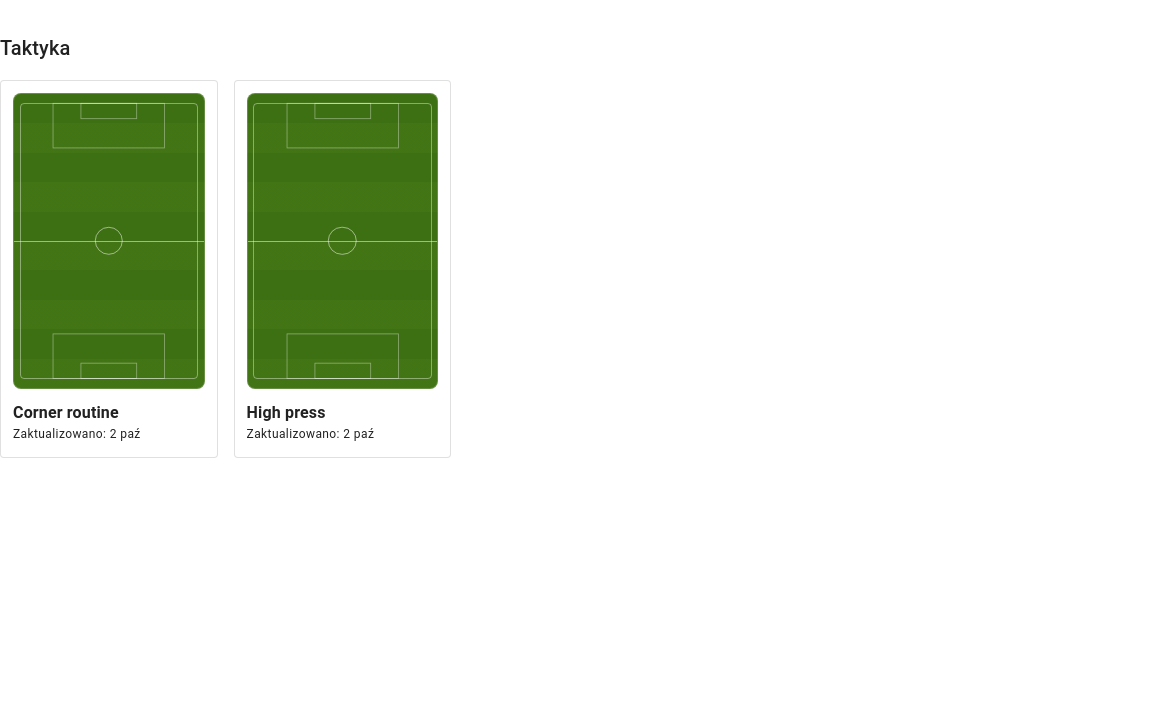
Test: opening a board › opens a read-only view for users who cannot edit
Click the text "High press" at (286, 412), box x1=247 y1=403 x2=326 y2=422
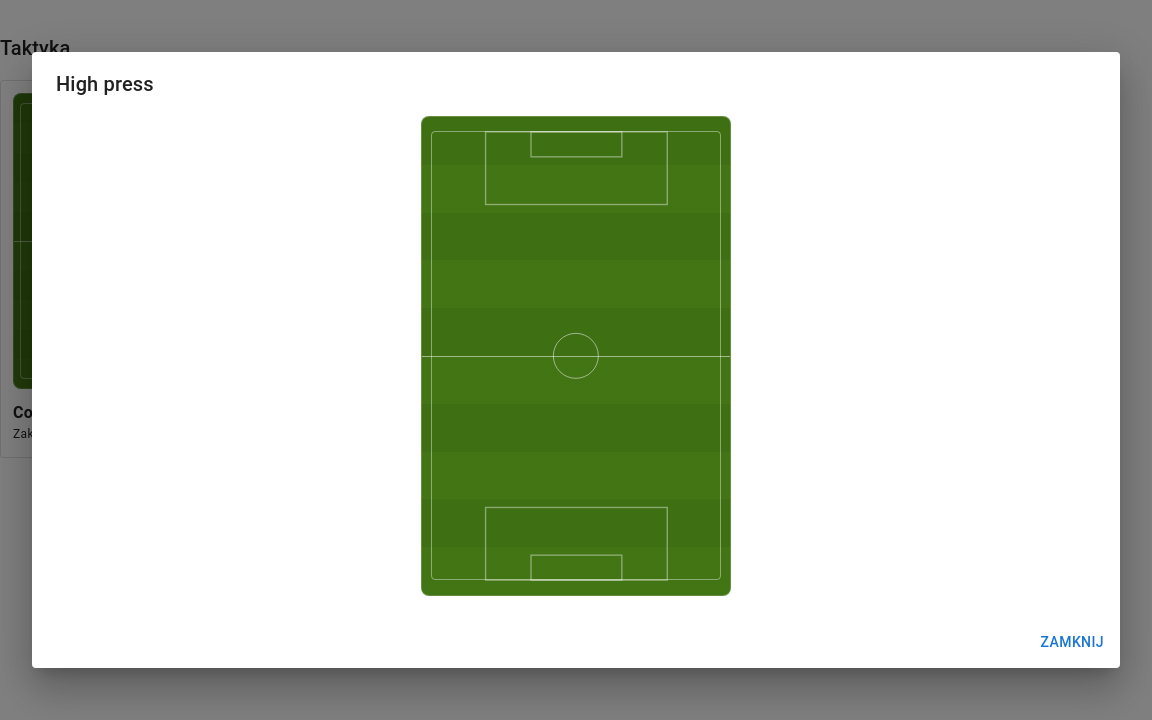
Result: the heading "High press" is shown at x1=56 y1=72 x2=154 y2=96
